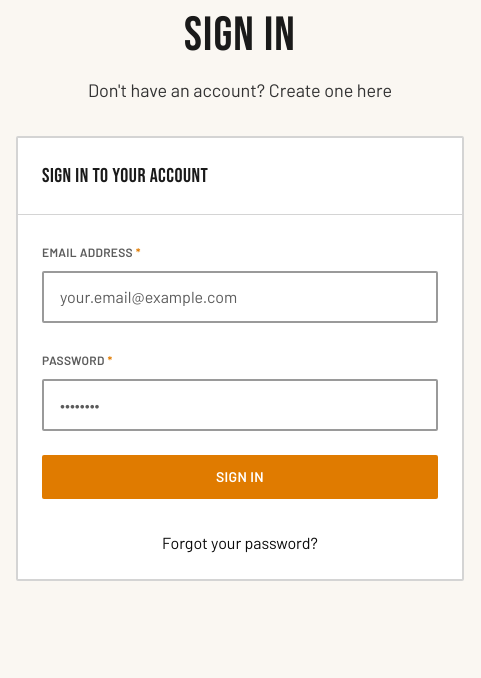
Test: LoginPage › Form Submission › should handle sign in error
The width and height of the screenshot is (481, 678).
Type "wrong@example.com" into the field labelled "Email Address *" at x=240, y=297, box 42,271 -> 438,323
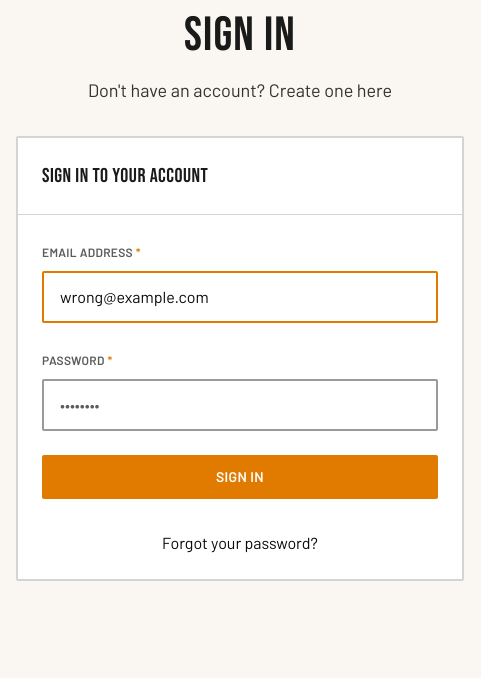
Type "wrongpassword" into the password field labelled "Password *" at x=240, y=405, box 42,379 -> 438,431
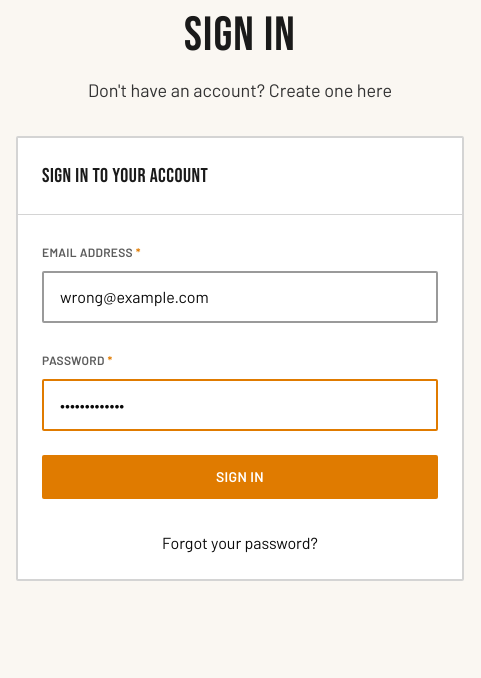
Click the button "Sign In" at x=240, y=477, box 42,455 -> 438,499
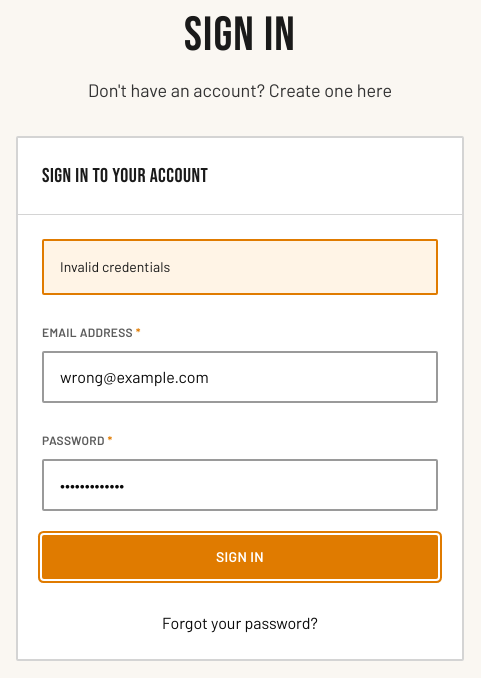
Expected: the text "Invalid credentials" is shown, 60,258 -> 170,275
